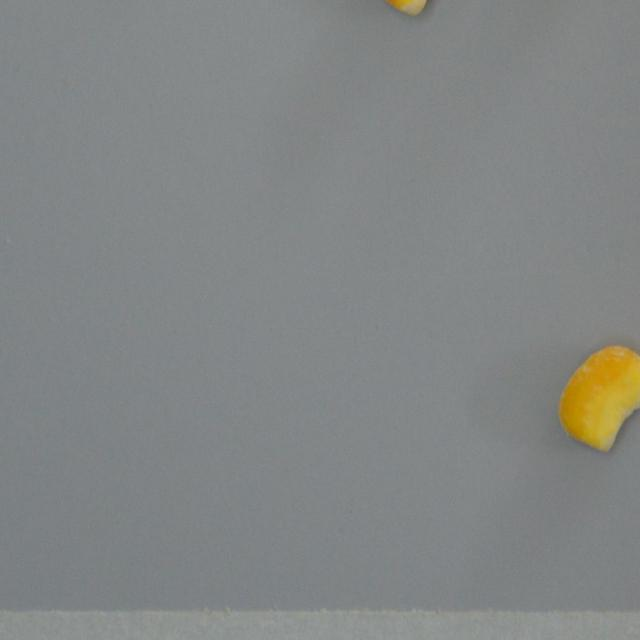no_canjicado: (362, 0, 500, 19)
pelicula: (551, 339, 640, 459)
